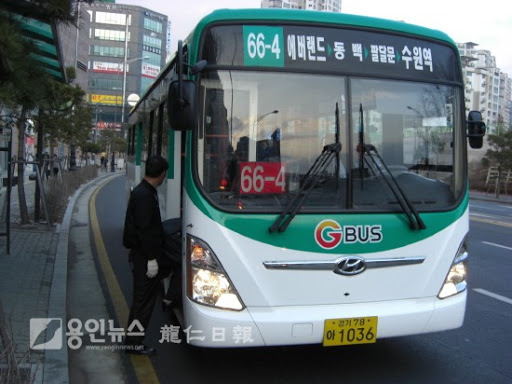bnum: (245, 25, 283, 63)
